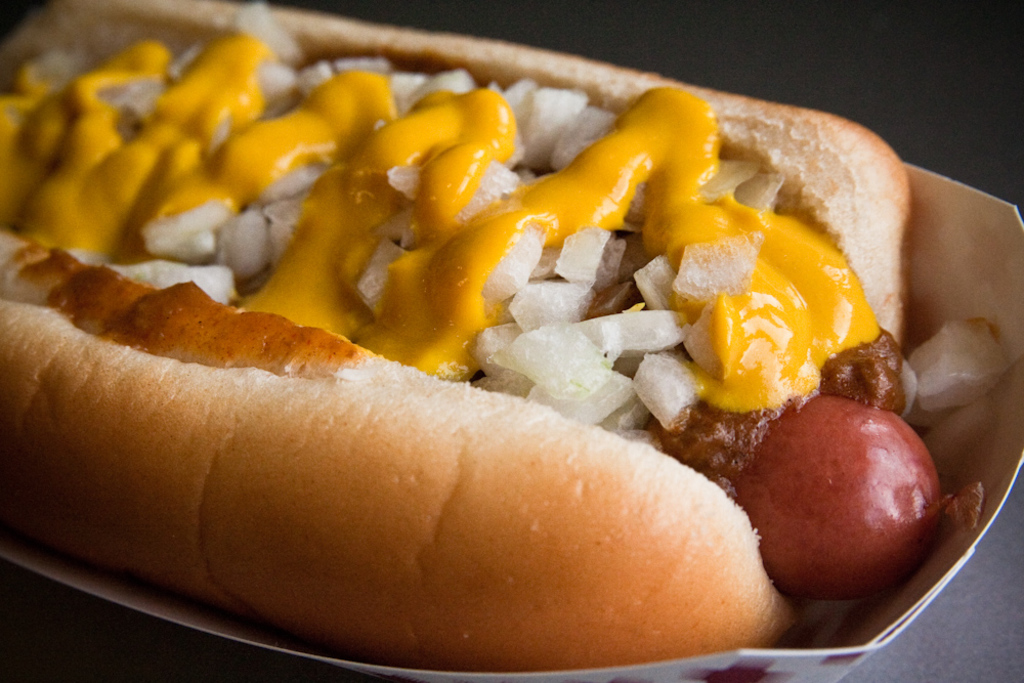hot_dog: (0, 0, 909, 676)
